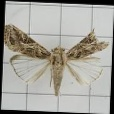Spodoptera litura: (2, 25, 108, 96)
